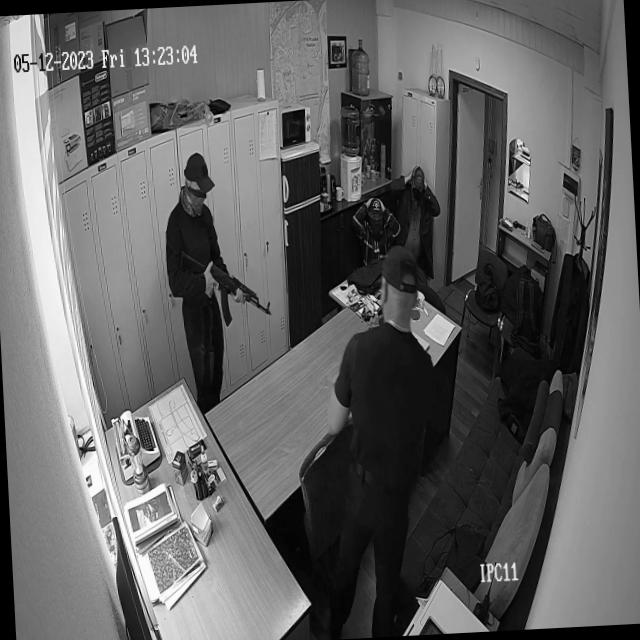gun: (199, 240, 274, 326)
person: (334, 252, 438, 627), (408, 157, 440, 216), (361, 202, 394, 250)
person with a gun: (158, 138, 248, 414)
